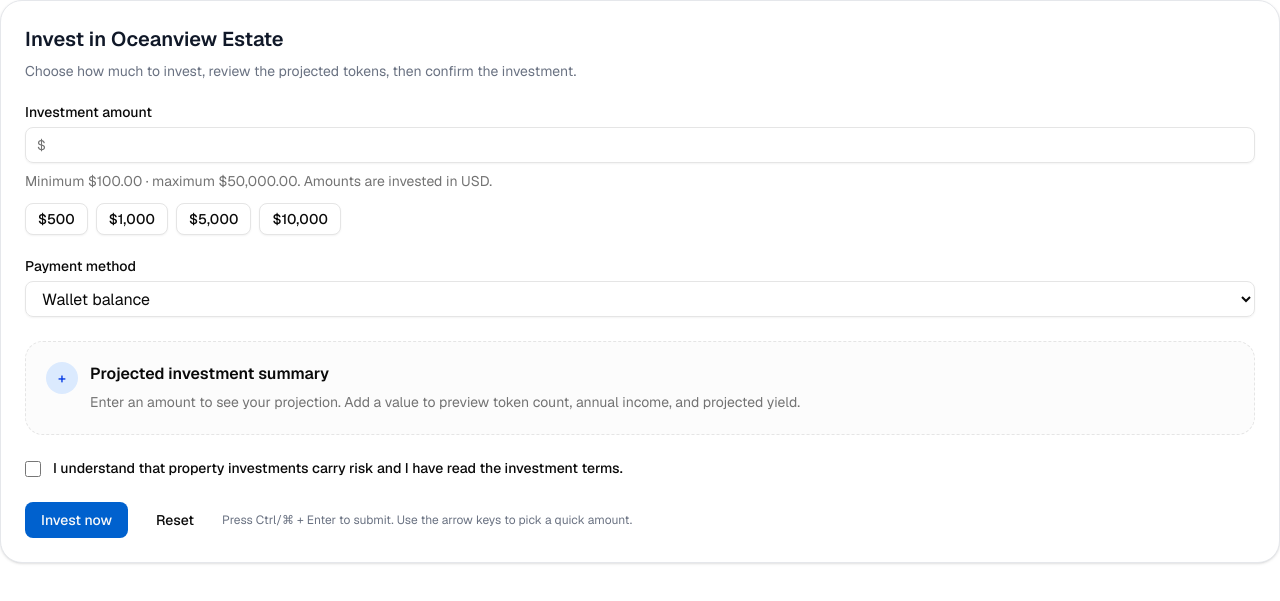
Test: InvestmentForm › projects tokens and annual income as the amount changes
Step 1. Type "2500" into the number field labelled "Investment amount" → (640, 145), box top-left (25, 127), bottom-right (1255, 163)
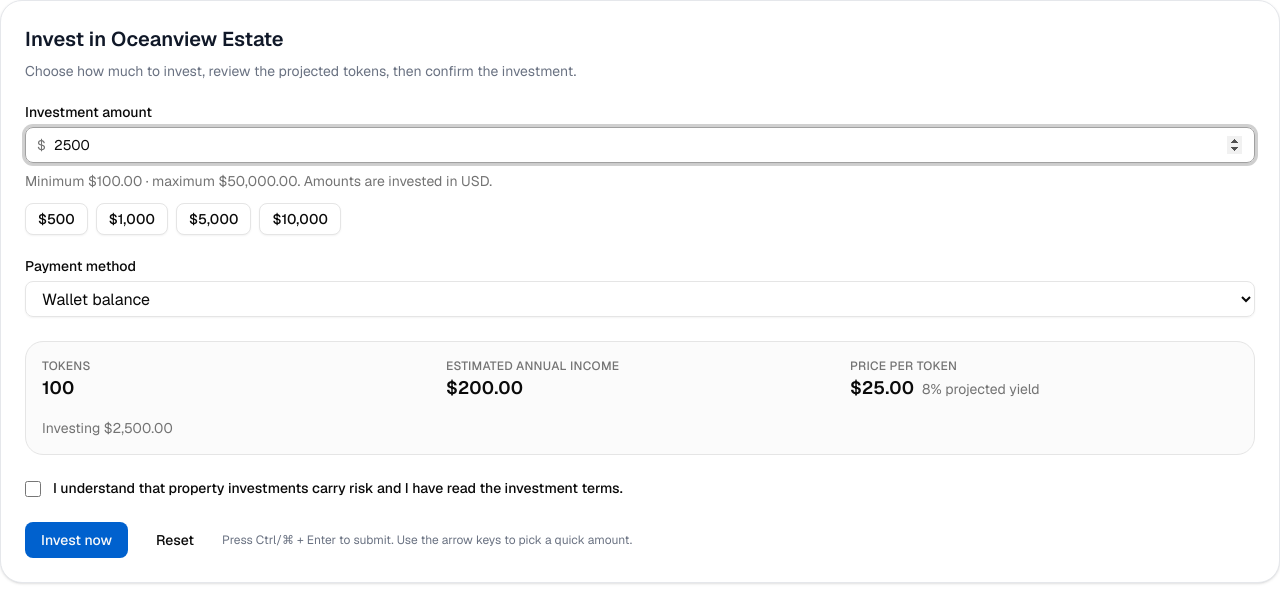
Check: the text "100" is shown, box top-left (42, 376), bottom-right (74, 399)
Check: the text "$200.00" is shown, box top-left (446, 376), bottom-right (523, 399)
Check: the text "Investing $2,500.00" is shown, box top-left (42, 419), bottom-right (173, 437)
